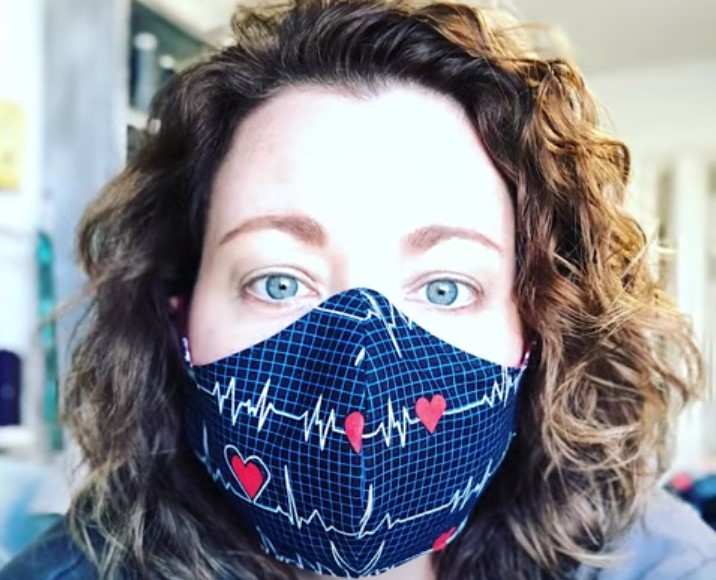face_with_mask: (149, 33, 591, 578)
